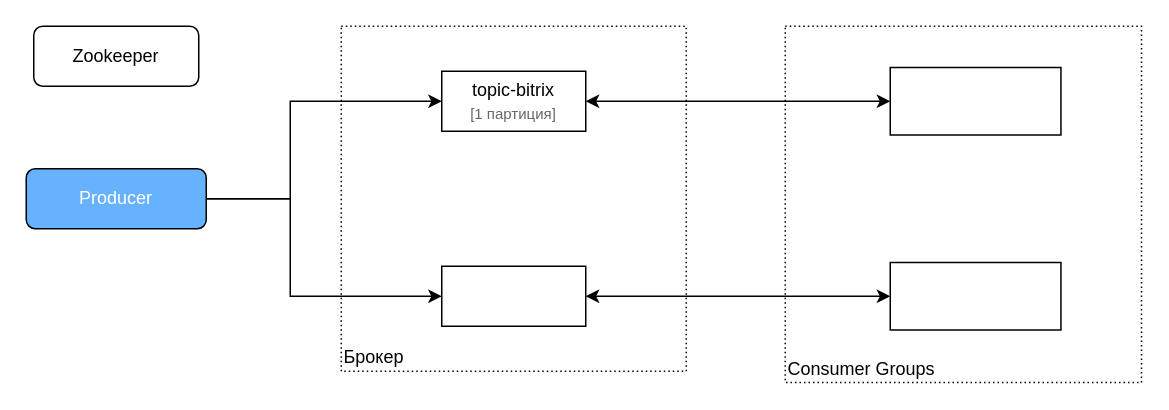
Image size: 1169x410. Some labels were removed from this diagram. Here are the shapes that lost their labels. From the top down, the centre of each, then its label:
At point (975, 100): "consumer-bitrix [1 consumer]".
At point (513, 295): "topic-ais [1 партиция]".
At point (975, 295): "consumer-ais [1 consumer]".
